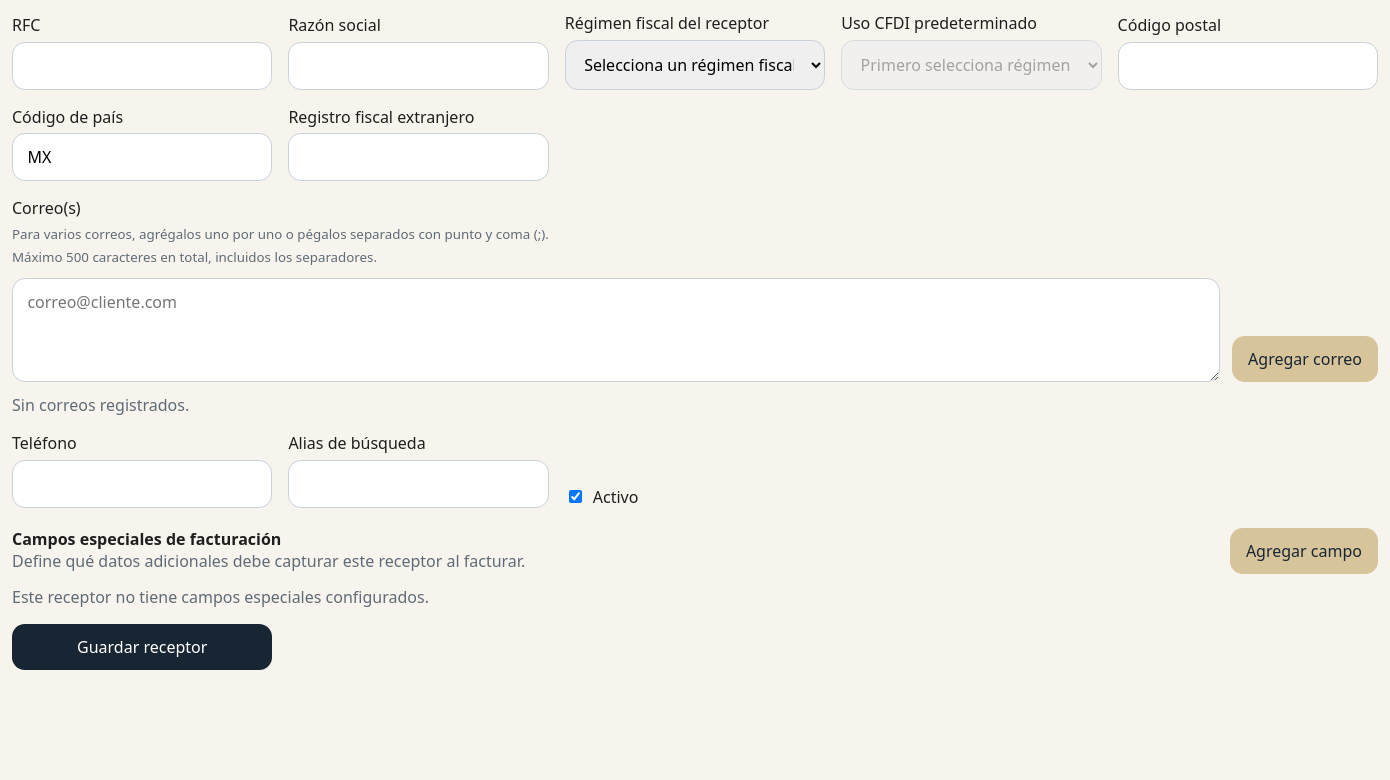
Test case: FiscalReceiverFormComponent › rejects invalid emails and does not partially add the batch
Type "a@x.com; invalido" into the text box with test id "email-recipient-input" at (616, 330), box [12,278,1220,382]
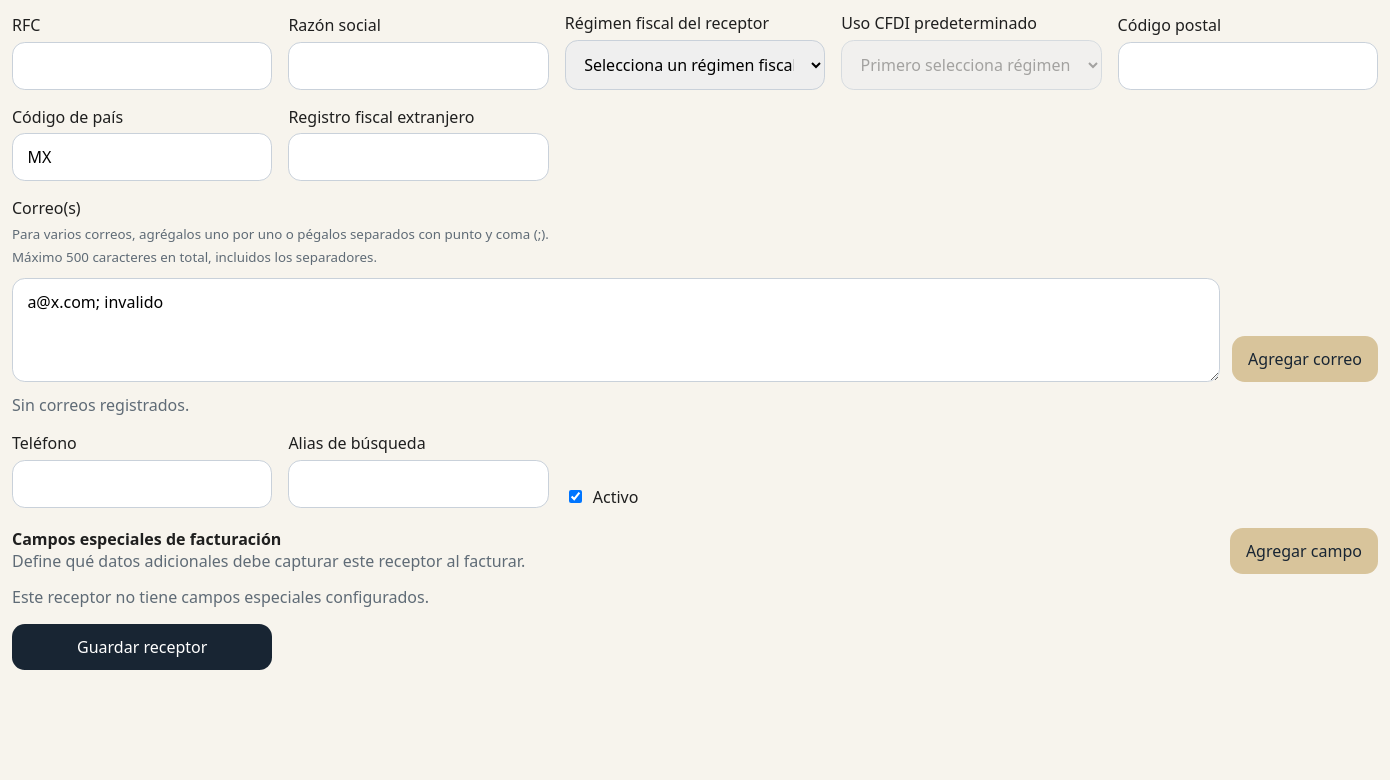
Click the button with test id "add-email-recipient-button" at (1305, 359), box [1232,336,1378,382]
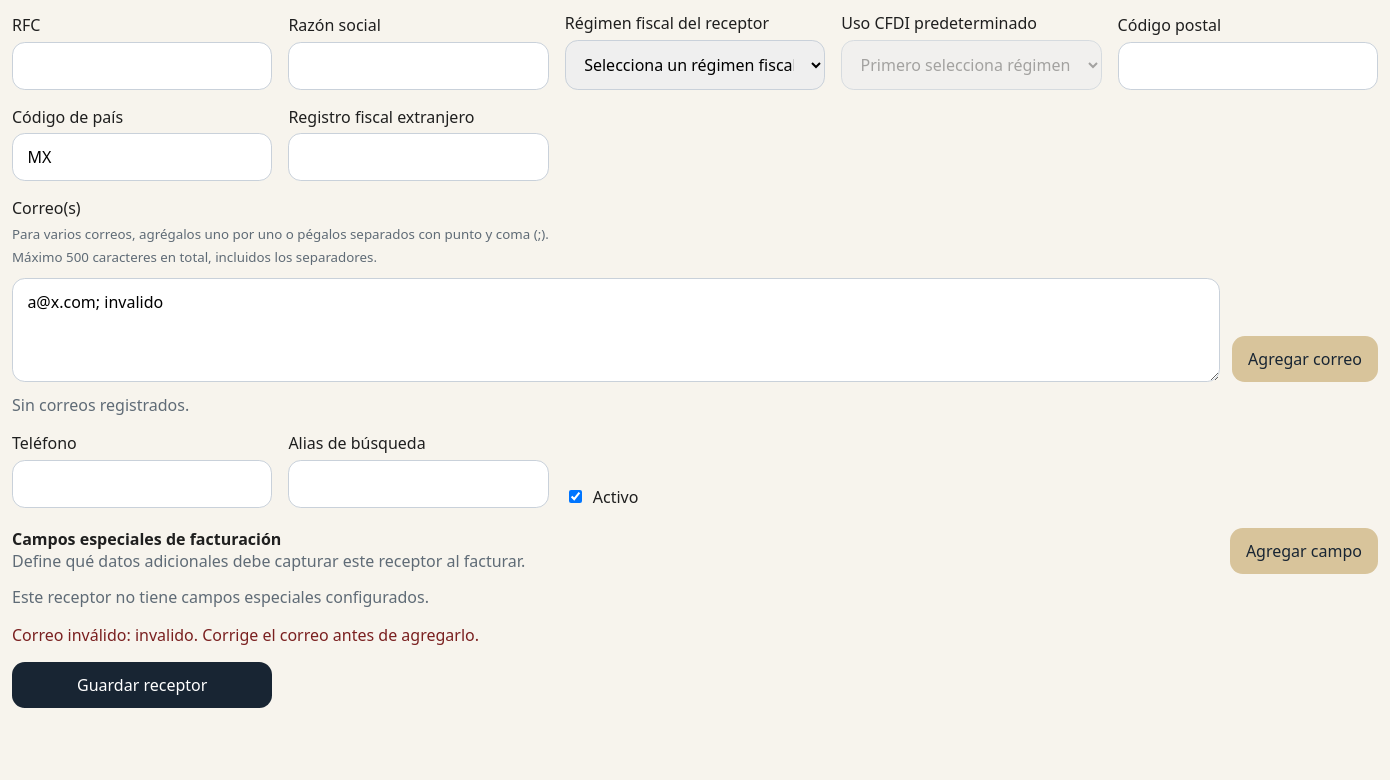
Result: the text "Correo inválido: invalido. Corrige el correo antes de agregarlo." is shown at [12,624,479,646]
